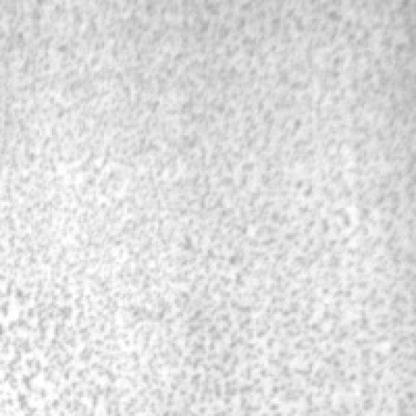pitted_surface: (0, 4, 414, 416)
